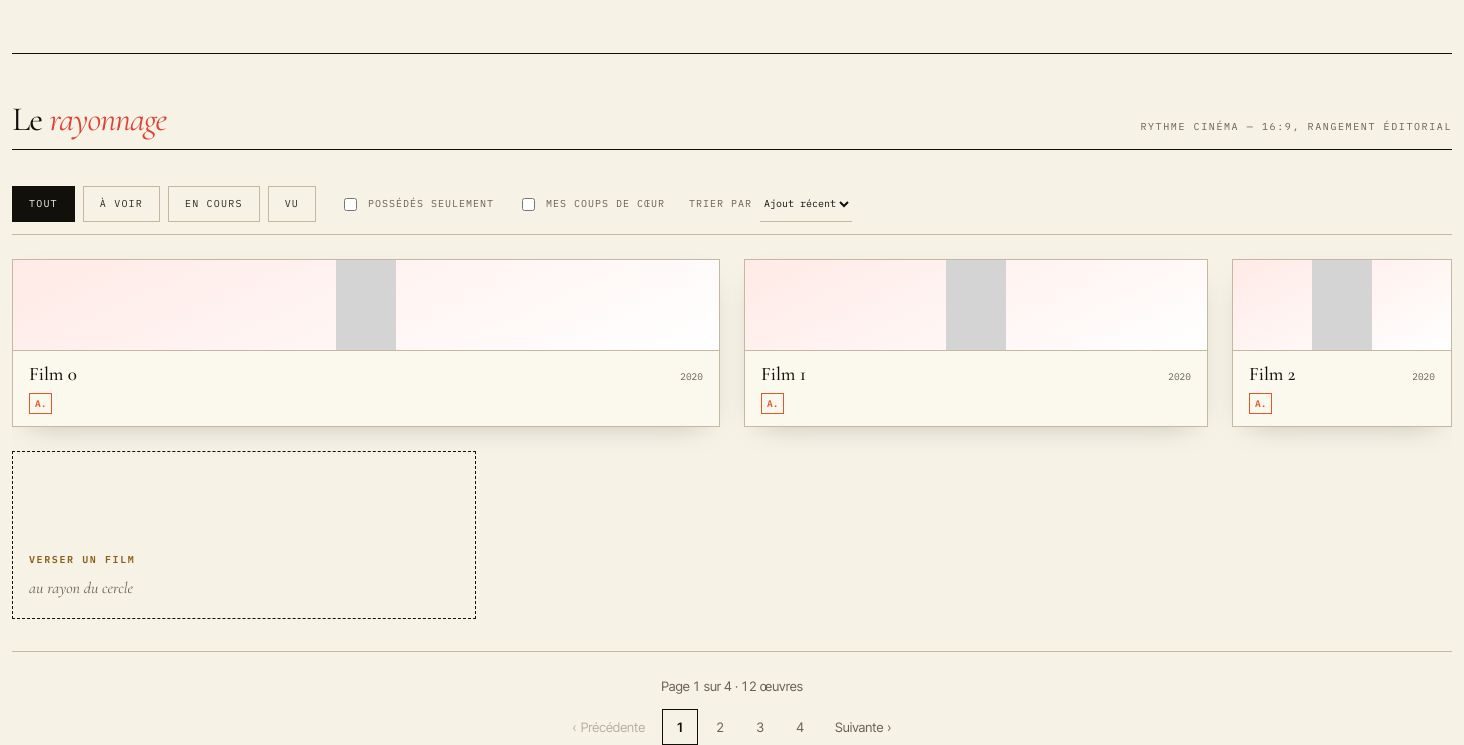
Test: Rayon — la page dans l’adresse › inscrit la page dans l’adresse quand on navigue
The image size is (1464, 745).
(page scrolled)
Expected: the text "Film 0" is shown, [29, 363, 77, 385]
Click the link named "Page 2" at (720, 727), box [716, 719, 724, 735]
(page scrolled)
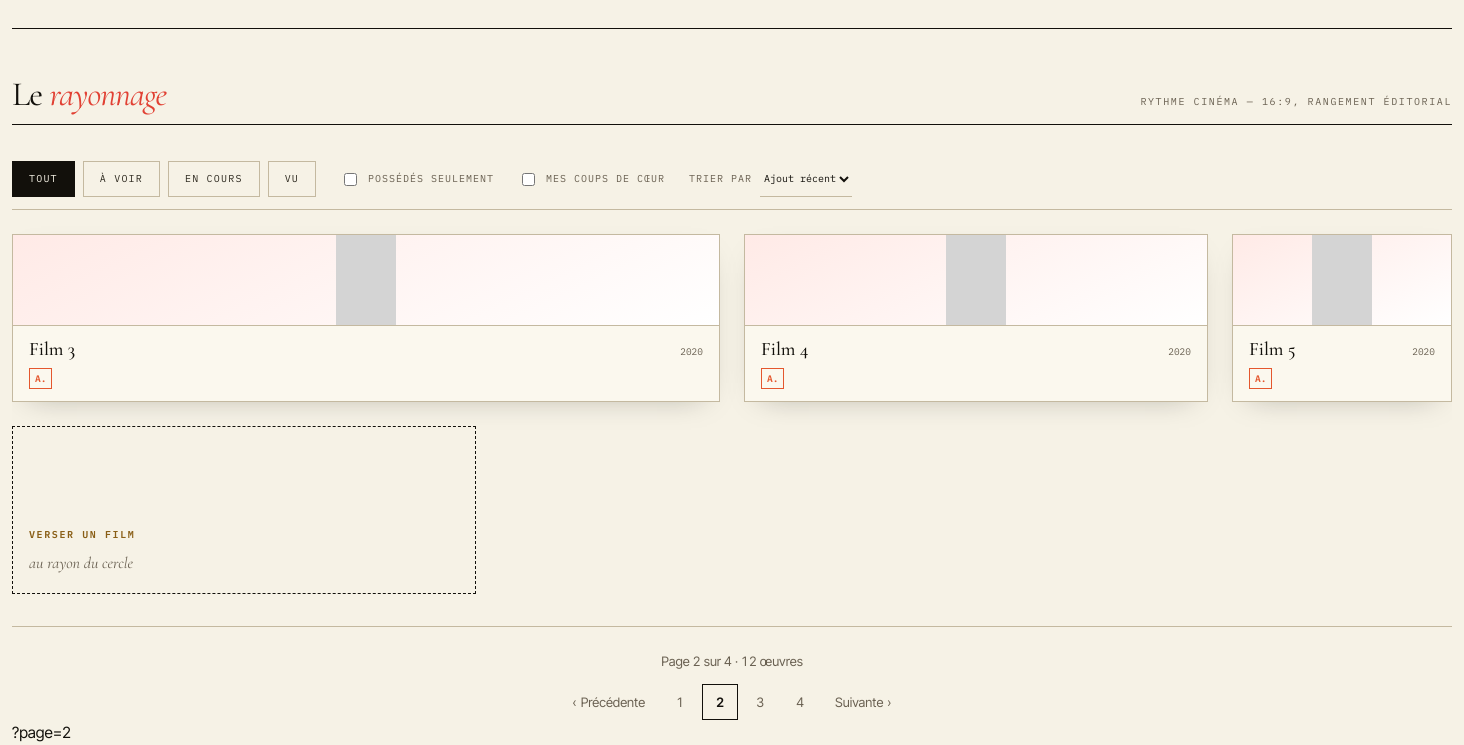
Now the text with test id "adresse" reads "?page=2", box [12, 723, 71, 742]
Now the text "Film 3" is shown, box [29, 338, 75, 360]
